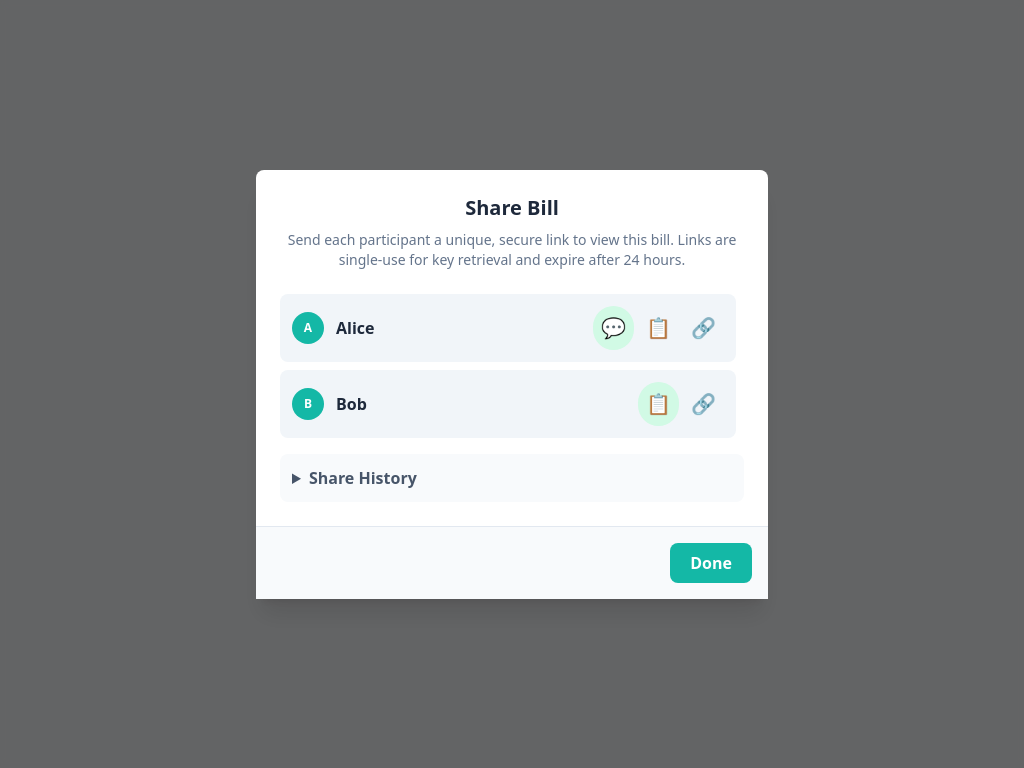
Scenario: ShareModal › shows previous share events when history exists
Note: Click the summary to expand the details section
Step 1. Click the heading "Share History" → click(363, 478), box [309,466,417,488]
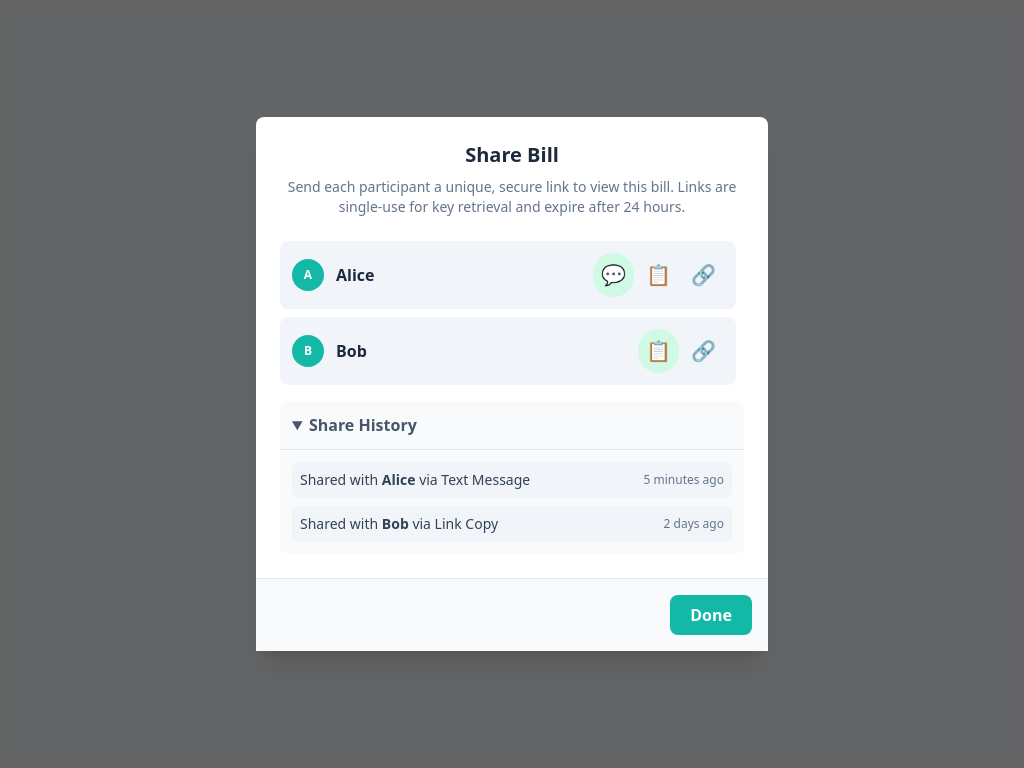
expect the text "5 minutes ago" is shown: met, box [644,472,724,488]
expect the text "2 days ago" is shown: met, box [664,516,724,532]
